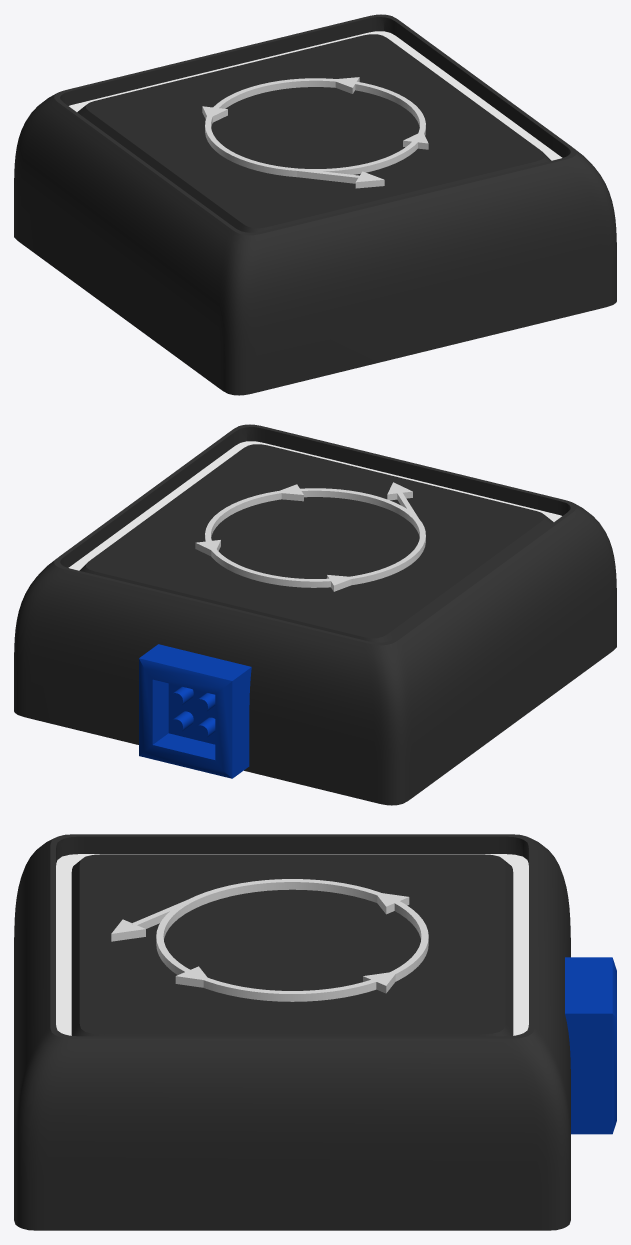
The model's file is LinearVelocitySensor.gltf.
3 renders of one model, top to bottom at view 1: azimuth 30°, elevation 25°; view 2: azimuth 150°, elevation 25°; view 3: azimuth 270°, elevation 25°, orthographic. The views are drawn at different scales.
Visible parts, largest first — view 1: base; view 2: base; view 3: base.
Part boxes in pixels (x1=…): base: x1=14, y1=14, x2=616, y2=395; base: x1=14, y1=424, x2=616, y2=805; base: x1=14, y1=834, x2=616, y2=1230.
Size of the model in its own units: 0.25 by 0.0875 by 0.2706.
